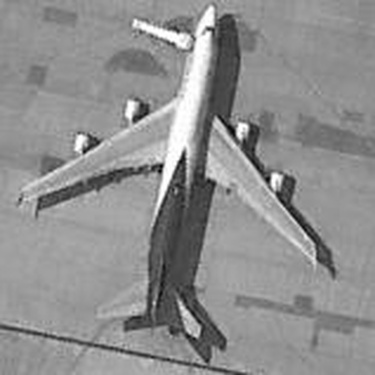airplane: (6, 3, 339, 343)
